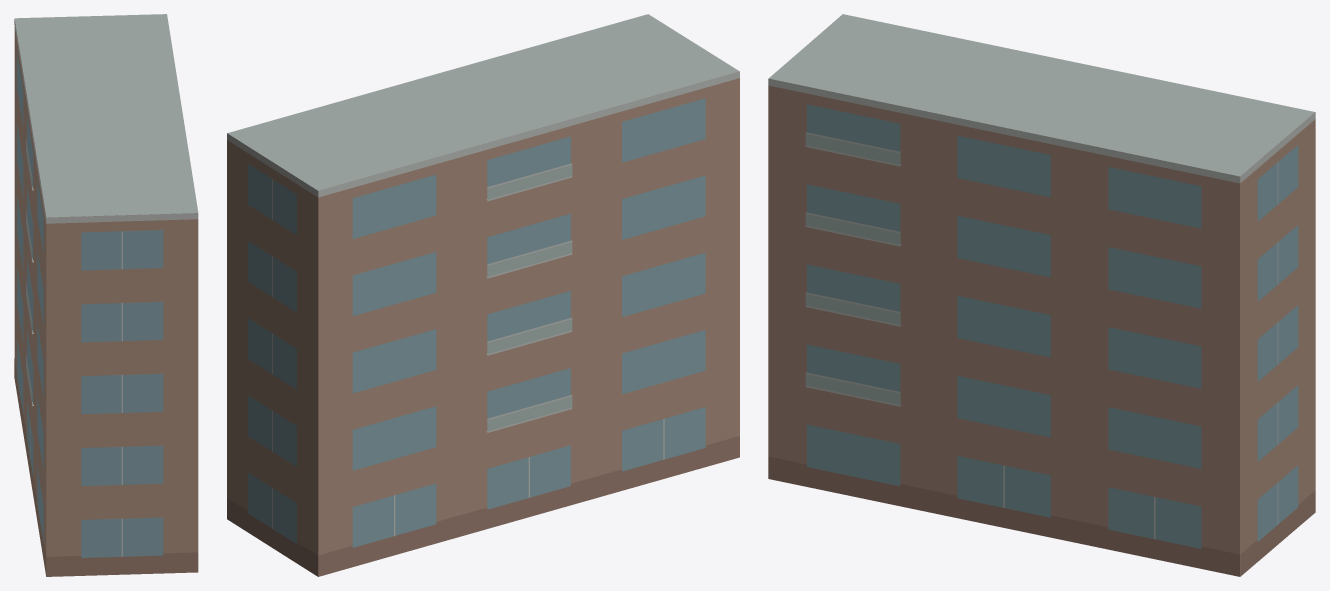
The model's file is survey-upis-32942237.glb.
3 views of the same model, side by side, from view 1: azimuth 30°, elevation 25°; view 2: azimuth 150°, elevation 25°; view 3: azimuth 270°, elevation 25° (orthographic). The views are drawn at different scales.
Parts seen in each view (by area): view 1: survey-upis-32942237.tmp; view 2: survey-upis-32942237.tmp; view 3: survey-upis-32942237.tmp.
Part boxes in pixels (x1,y1,x2,y2): survey-upis-32942237.tmp: (14, 14, 198, 576); survey-upis-32942237.tmp: (227, 14, 739, 576); survey-upis-32942237.tmp: (768, 14, 1315, 576).
Size of the model in its own units: 12.29 by 14.1 by 17.47.
